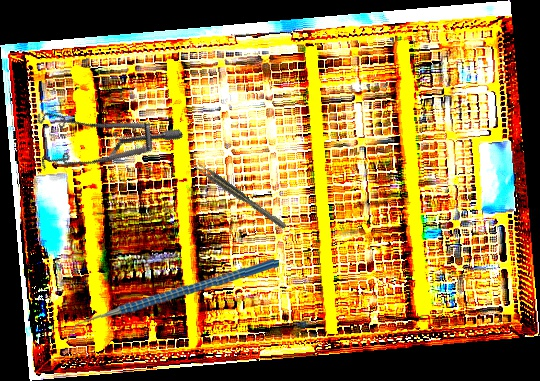Chopper: (66, 252, 280, 348)
Speculum: (18, 56, 184, 206)
Tissue Forceps: (191, 158, 287, 233)
